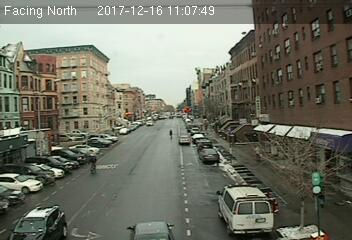bicycle: (88, 155, 98, 175)
car: (199, 147, 218, 162), (178, 134, 189, 143)
police: (217, 184, 272, 233)
